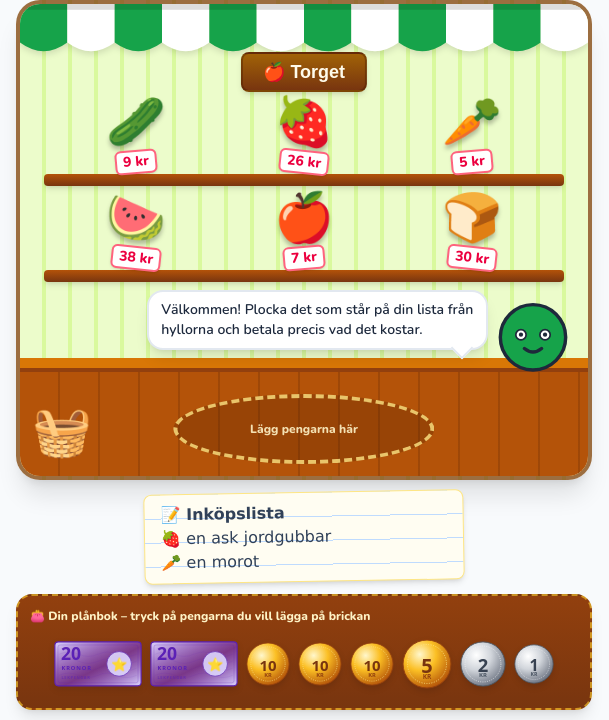
Test: the shop › from the shopping list: picking something not on it gets a word from the shopkeeper
Step 1. Click the button "🥒 9 kr" → (136, 136), box [106,98,166,174]
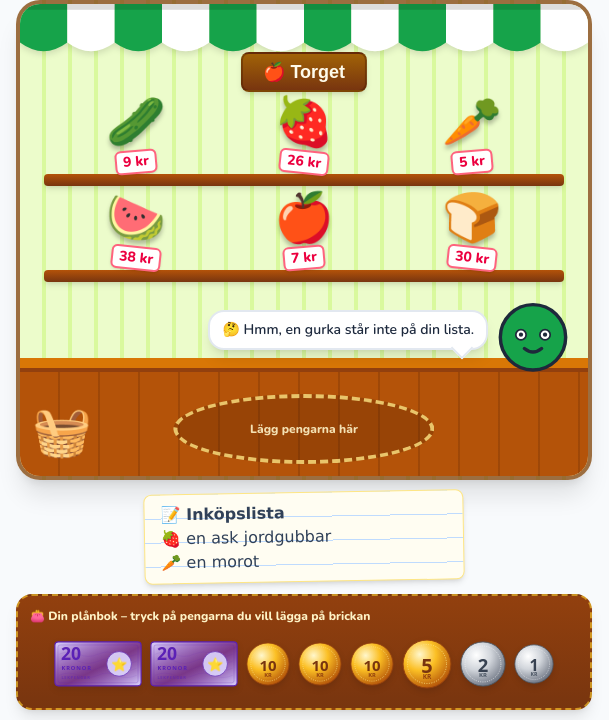
expect the message "🤔 Hmm, en gurka står inte på din lista." is shown: met, box [208,310,488,350]
